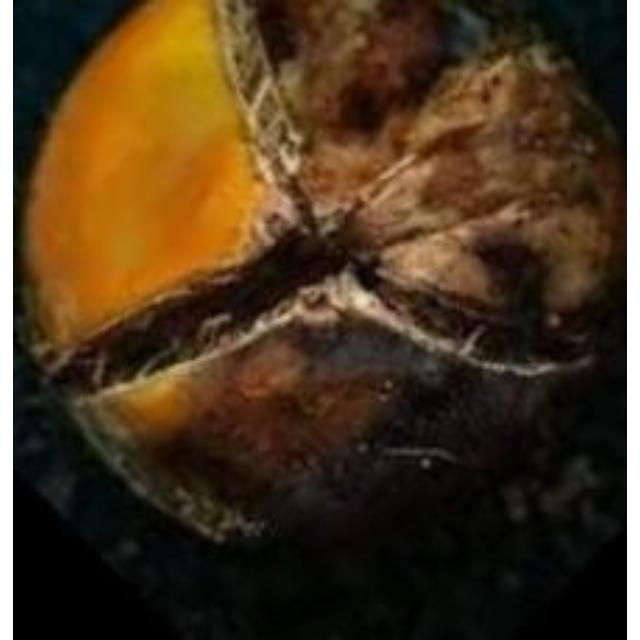damaged: (24, 0, 625, 637)
